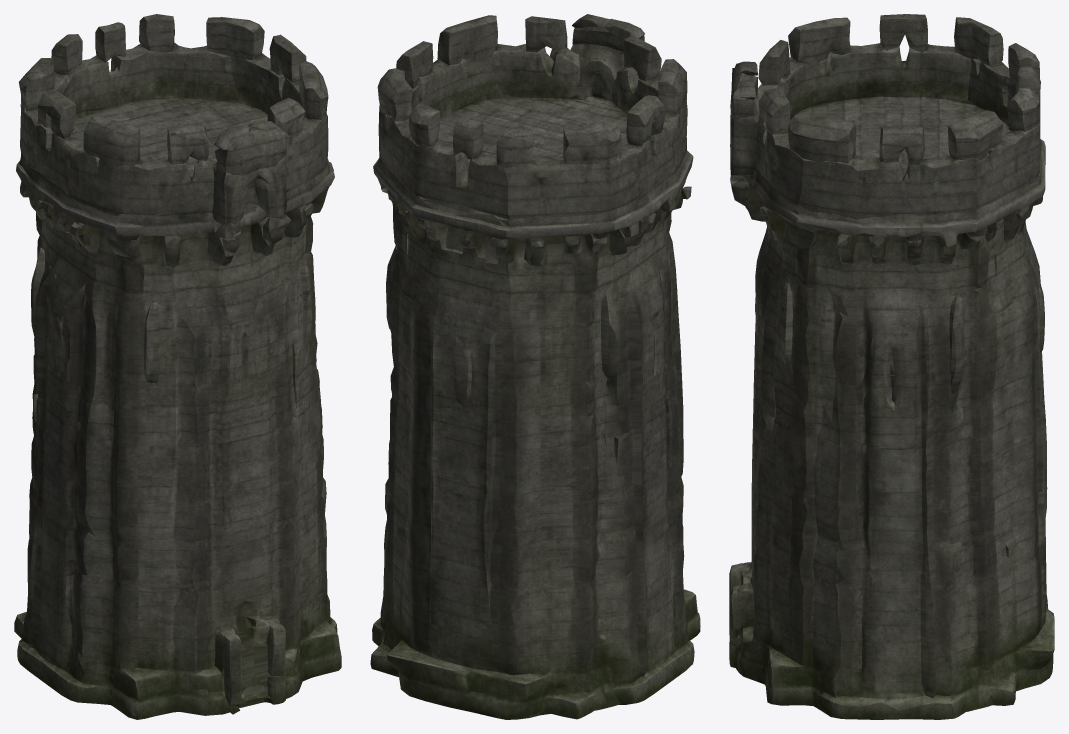
File: 城堡组件-塔楼-tower.glb
3 views of the same model, side by side, from view 1: azimuth 30°, elevation 25°; view 2: azimuth 150°, elevation 25°; view 3: azimuth 270°, elevation 25° (orthographic).
Parts seen in each view (by area): view 1: Shaft, ParapetWall, MachicolationSlab, Plinth, CrenelSill, Merlon_6, DoorSurround, Merlon_1, Merlon_7, Merlon_5, Merlon_9, Merlon_4 (+6 smaller); view 2: Shaft, ParapetWall, MachicolationSlab, Plinth, Merlon_9, Merlon_4, CrenelSill, Merlon_7, Merlon_8, Merlon_5, Merlon_1, Merlon_3 (+3 smaller); view 3: Shaft, ParapetWall, MachicolationSlab, Plinth, Merlon_9, Merlon_6, Merlon_1, Merlon_4, Merlon_8, Merlon_5, Merlon_0, Merlon_7 (+4 smaller).
Part boxes in pixels (bbox=[...]): Shaft: bbox=[14, 187, 341, 707]; ParapetWall: bbox=[20, 42, 328, 224]; MachicolationSlab: bbox=[16, 97, 334, 242]; Plinth: bbox=[40, 637, 311, 719]; CrenelSill: bbox=[95, 22, 287, 175]; Merlon_6: bbox=[83, 114, 140, 167]; DoorSurround: bbox=[223, 623, 285, 705]; Merlon_1: bbox=[206, 17, 264, 60]; Merlon_7: bbox=[167, 124, 248, 164]; Merlon_5: bbox=[38, 89, 76, 138]; Merlon_9: bbox=[299, 61, 328, 119]; Merlon_4: bbox=[18, 58, 55, 110]; Shaft: bbox=[370, 182, 697, 719]; ParapetWall: bbox=[378, 43, 687, 220]; MachicolationSlab: bbox=[373, 97, 693, 241]; Plinth: bbox=[378, 612, 700, 710]; Merlon_9: bbox=[437, 15, 497, 65]; Merlon_4: bbox=[563, 121, 621, 164]; CrenelSill: bbox=[452, 18, 644, 159]; Merlon_7: bbox=[604, 18, 661, 81]; Merlon_8: bbox=[525, 14, 603, 52]; Merlon_5: bbox=[626, 95, 664, 146]; Merlon_1: bbox=[377, 68, 412, 121]; Merlon_3: bbox=[496, 127, 533, 167]; Shaft: bbox=[738, 175, 1054, 719]; ParapetWall: bbox=[730, 43, 1040, 219]; MachicolationSlab: bbox=[750, 96, 1045, 247]; Plinth: bbox=[729, 634, 1025, 718]; Merlon_9: bbox=[788, 114, 856, 163]; Merlon_6: bbox=[788, 17, 850, 65]; Merlon_1: bbox=[948, 110, 1003, 160]; Merlon_4: bbox=[954, 17, 1003, 65]; Merlon_8: bbox=[738, 74, 790, 134]; Merlon_5: bbox=[879, 14, 927, 52]; Merlon_0: bbox=[879, 125, 924, 165]; Merlon_7: bbox=[734, 40, 790, 85].
Bounding box in the file's own units: 0.9671 × 2 × 1.01.
1 material, 1 textured.
